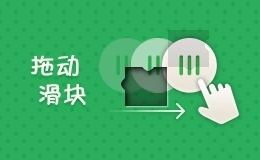target: (103, 48, 146, 86)
